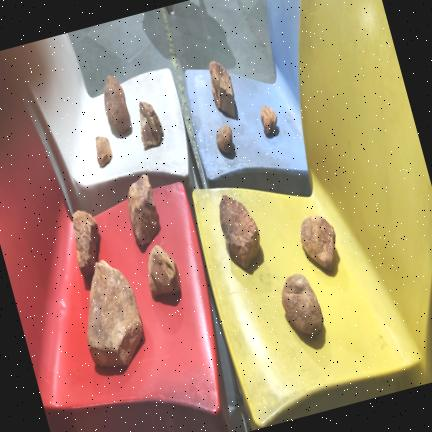Rocks: (87, 261, 142, 367), (219, 196, 259, 269), (281, 274, 322, 335), (127, 175, 157, 247), (300, 216, 334, 270), (72, 211, 98, 277), (147, 246, 180, 297), (103, 76, 130, 135), (209, 61, 235, 117), (139, 102, 162, 148), (260, 106, 276, 136), (95, 137, 111, 167), (216, 125, 232, 153)
